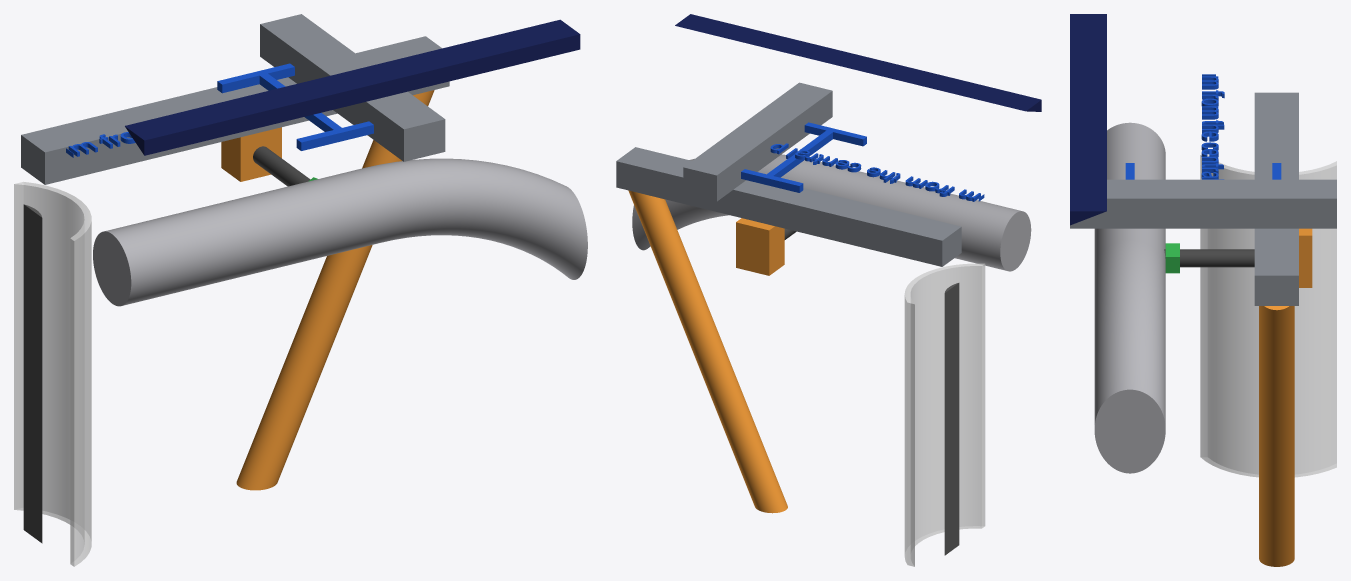
The model's file is track-supports-top-v2.glb.
3 views of the same model, side by side, from view 1: azimuth 30°, elevation 25°; view 2: azimuth 150°, elevation 25°; view 3: azimuth 270°, elevation 25° (orthographic). The views are drawn at different scales.
Visible parts, largest first — view 1: track_loop, growing_pipe, solar_panel_30W, top_triangle_legs_16mm, top_bar, panel_rails_and_posts, spine_tube, track_offset_dimension, top_hangers_from_crossbar, support_m8_rods; view 2: growing_pipe, top_bar, top_triangle_legs_16mm, track_loop, panel_rails_and_posts, solar_panel_30W, spine_tube, track_offset_dimension, top_hangers_from_crossbar; view 3: growing_pipe, track_loop, panel_rails_and_posts, top_triangle_legs_16mm, solar_panel_30W, top_bar, track_offset_dimension, support_m8_rods, top_hangers_from_crossbar, support_lock_nuts.
Boxes of the visible parts, x1,y1,x2,y2 form: track_loop: (93,158,587,306); growing_pipe: (14,181,91,566); solar_panel_30W: (125,19,580,155); top_triangle_legs_16mm: (236,90,434,490); top_bar: (21,36,449,184); panel_rails_and_posts: (260,14,445,161); spine_tube: (23,204,42,543); track_offset_dimension: (66,63,373,157); top_hangers_from_crossbar: (221,127,281,181); support_m8_rods: (253,146,310,186); growing_pipe: (904,263,985,566); top_bar: (616,147,961,266); top_triangle_legs_16mm: (628,190,787,513); track_loop: (632,154,1031,271); panel_rails_and_posts: (683,82,832,201); solar_panel_30W: (675,14,1041,111); spine_tube: (944,283,959,555); track_offset_dimension: (741,122,984,201); top_hangers_from_crossbar: (736,218,784,275); growing_pipe: (1200,155,1336,477); track_loop: (1094,122,1165,473); panel_rails_and_posts: (1070,179,1336,228); top_triangle_legs_16mm: (1259,306,1294,566); solar_panel_30W: (1070,14,1106,225); top_bar: (1254,92,1298,305); track_offset_dimension: (1125,74,1281,179); support_m8_rods: (1164,249,1254,267); top_hangers_from_crossbar: (1299,228,1312,287); support_lock_nuts: (1165,243,1179,273).
Size of the model in its own units: 220 by 220 by 120.
